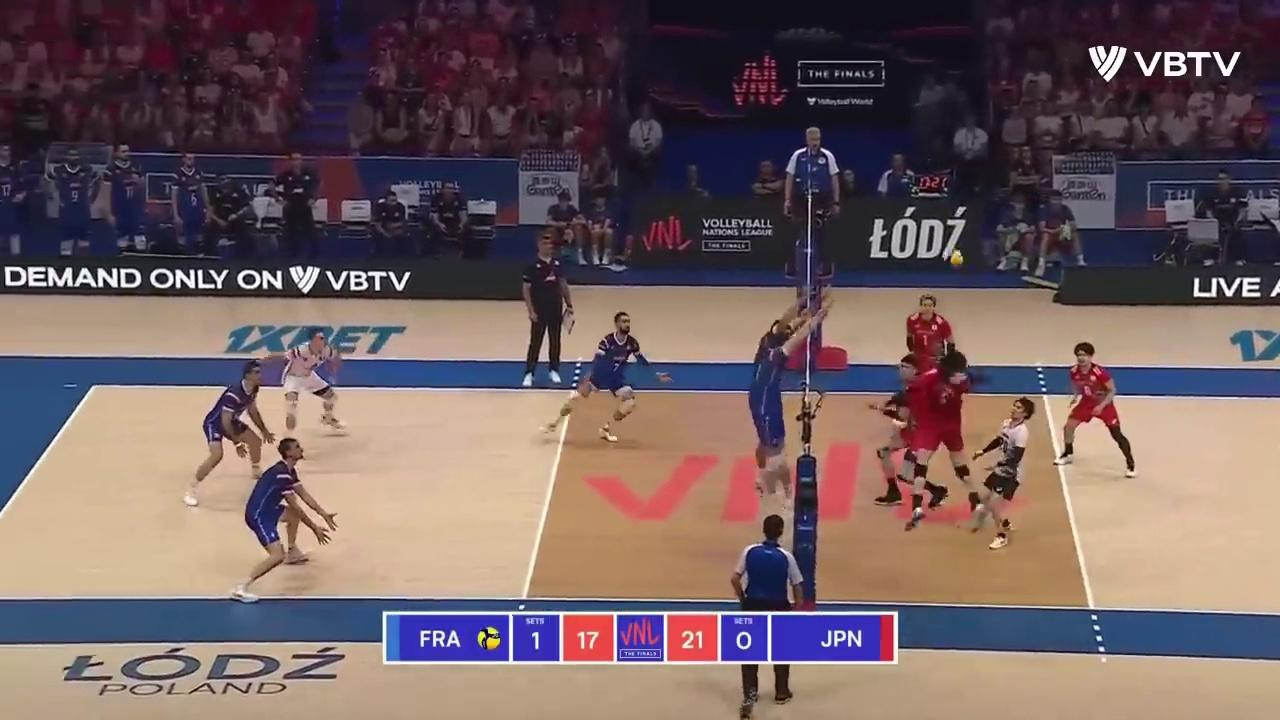ball: (950, 249, 962, 267)
